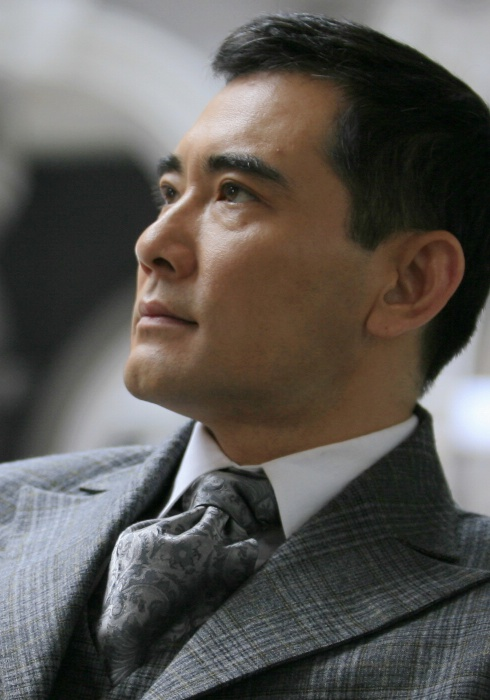male: (118, 5, 490, 451)
